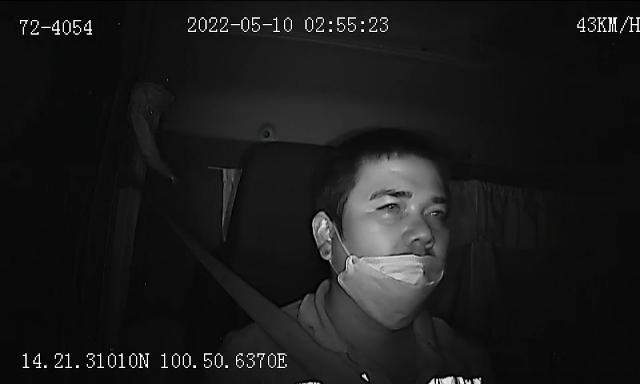SafeDriving: (371, 194, 408, 218), (420, 200, 451, 224)
Seatbelt: (212, 272, 358, 384)
